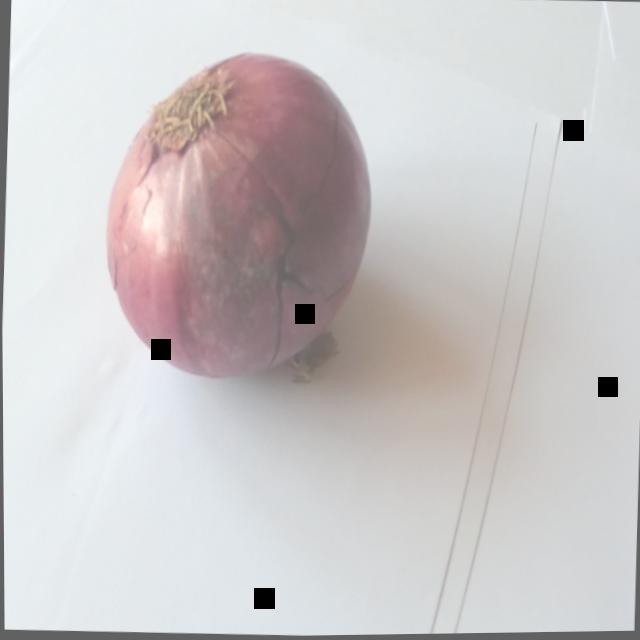Onion: (83, 22, 391, 418)
